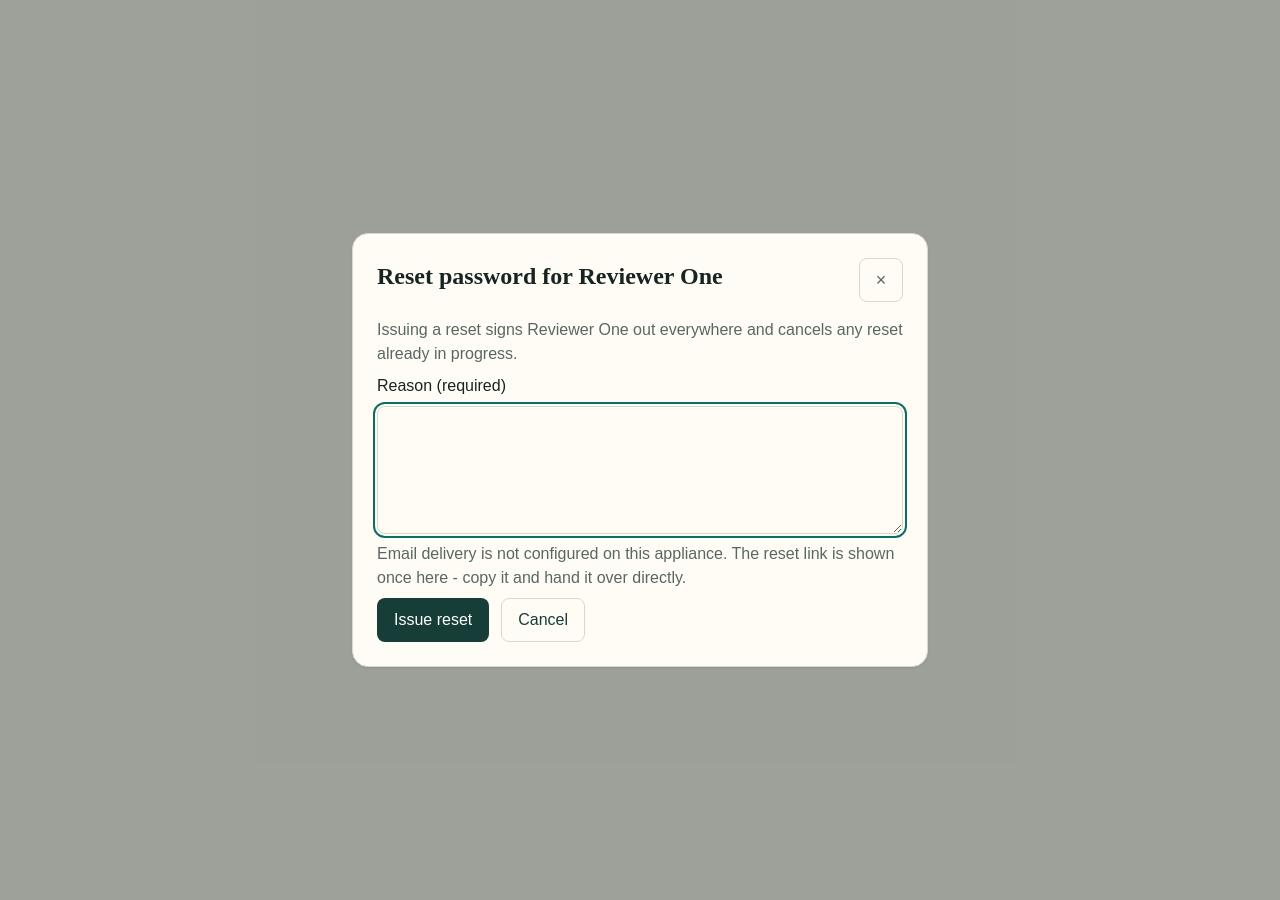
Test: AccountPasswordResetModal › reveals the handoff link exactly once with expiry
Step 1. Type "User forgot their password at the front desk." into the text box labelled "Reason (required)" → (640, 470), box [377, 406, 903, 534]
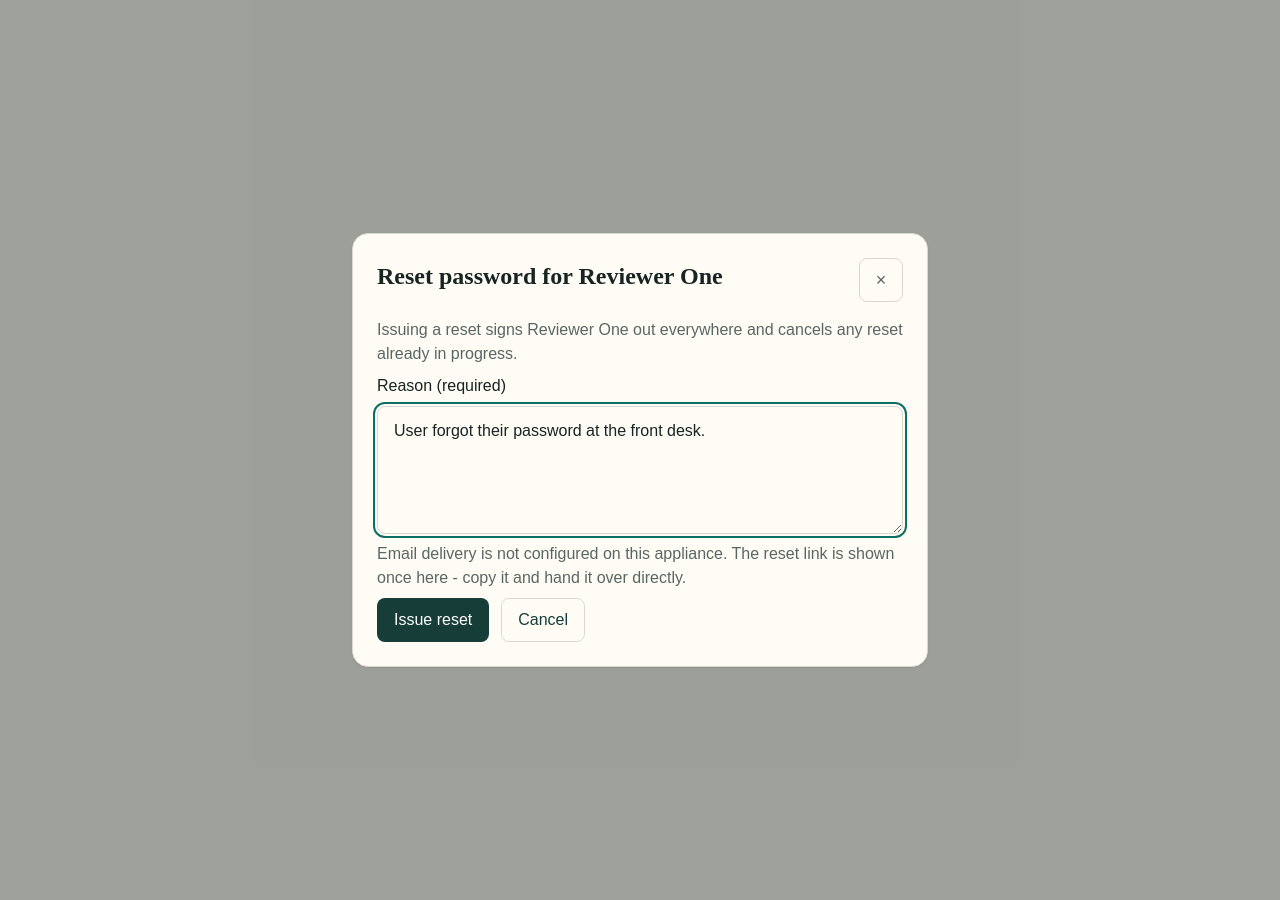
Step 2. Click the button "Issue reset" → (433, 620), box [377, 598, 489, 642]
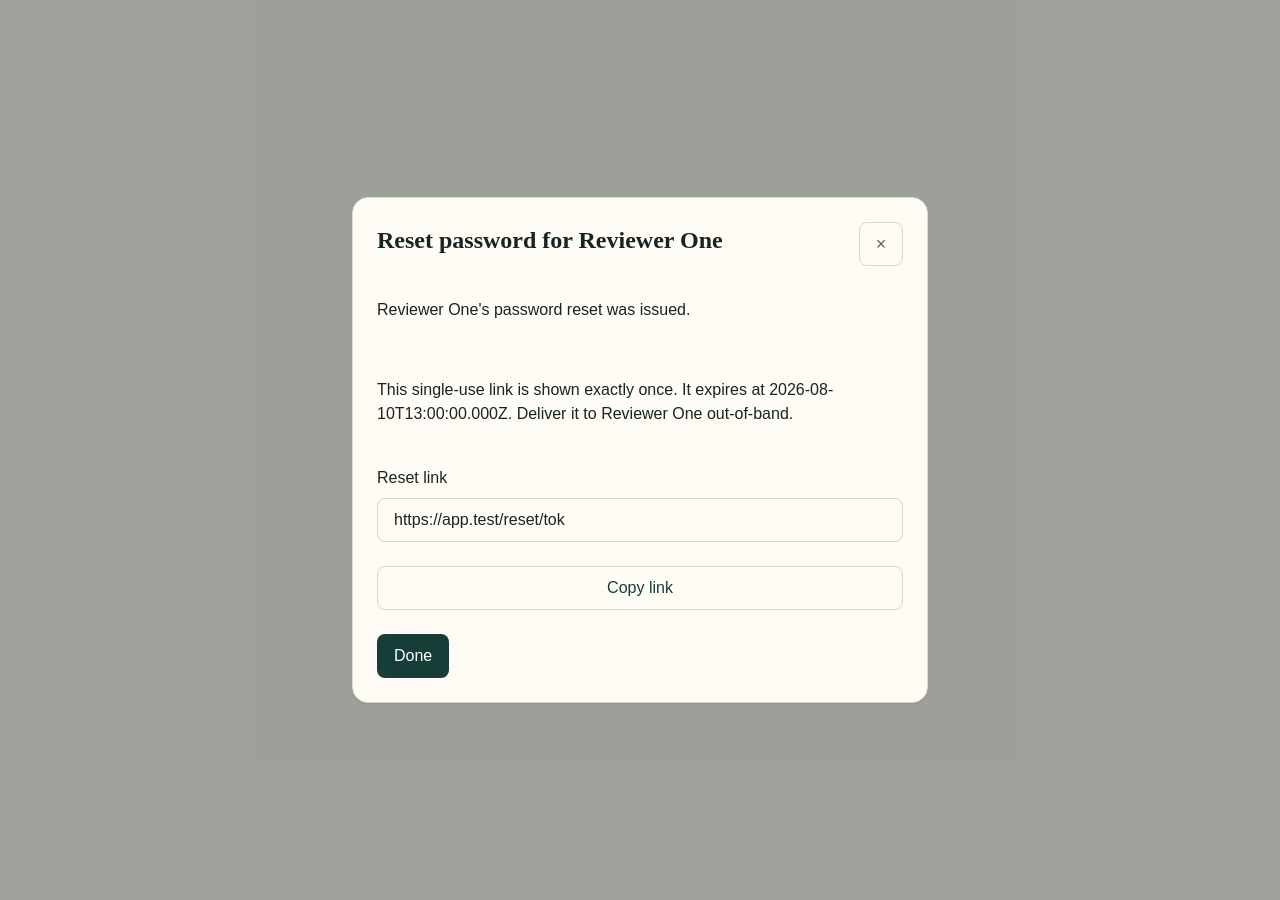
Check: the field showing "https://app.test/reset/tok" is shown, box [377, 498, 903, 542]
Check: the text "2026-08-10T13:00:00.000Z" is shown, box [377, 381, 833, 422]
Check: the button "Copy link" is shown, box [377, 566, 903, 610]
